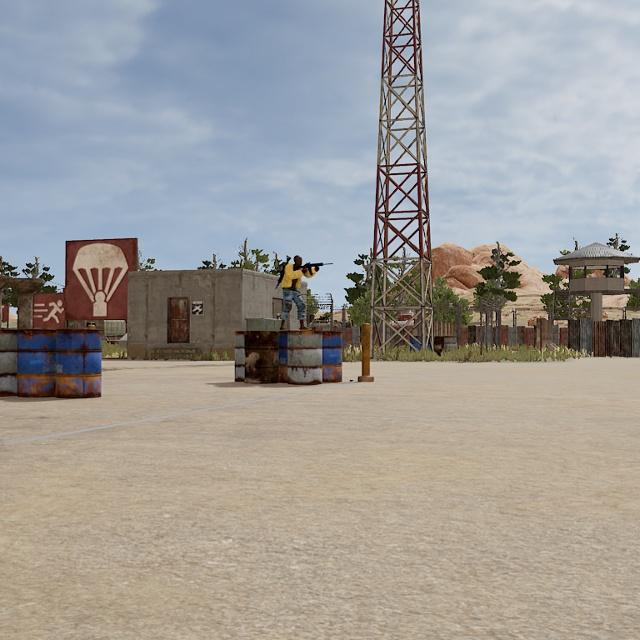head: (292, 254, 303, 266)
people: (276, 253, 309, 330)
